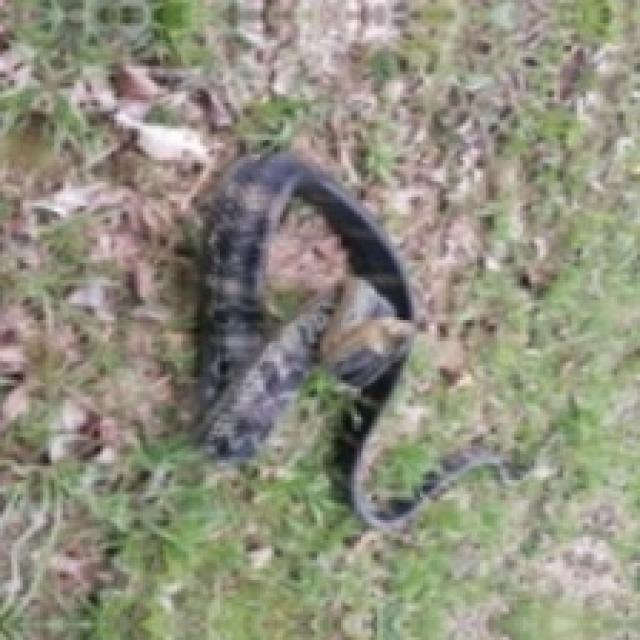dog-toothed cat snake: (197, 151, 420, 526)
